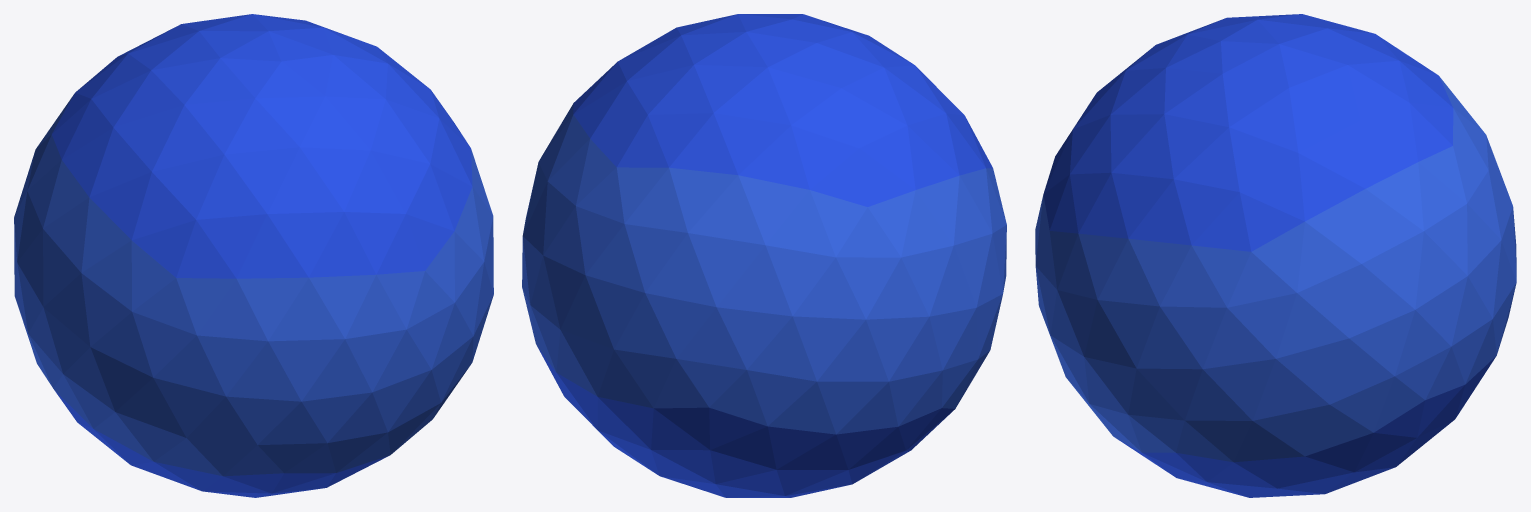
Rendered from neptune.glb.
3 renders of one model, left to right at view 1: azimuth 30°, elevation 25°; view 2: azimuth 150°, elevation 25°; view 3: azimuth 270°, elevation 25°, orthographic.
Visible parts, largest first — view 1: Icosphere; view 2: Icosphere; view 3: Icosphere.
Part boxes in pixels (bbox=[...]): Icosphere: bbox=[14, 14, 493, 497]; Icosphere: bbox=[522, 14, 1006, 497]; Icosphere: bbox=[1035, 14, 1516, 497].
Bounding box in the file's own units: 5.07 × 5.06 × 5.02.
